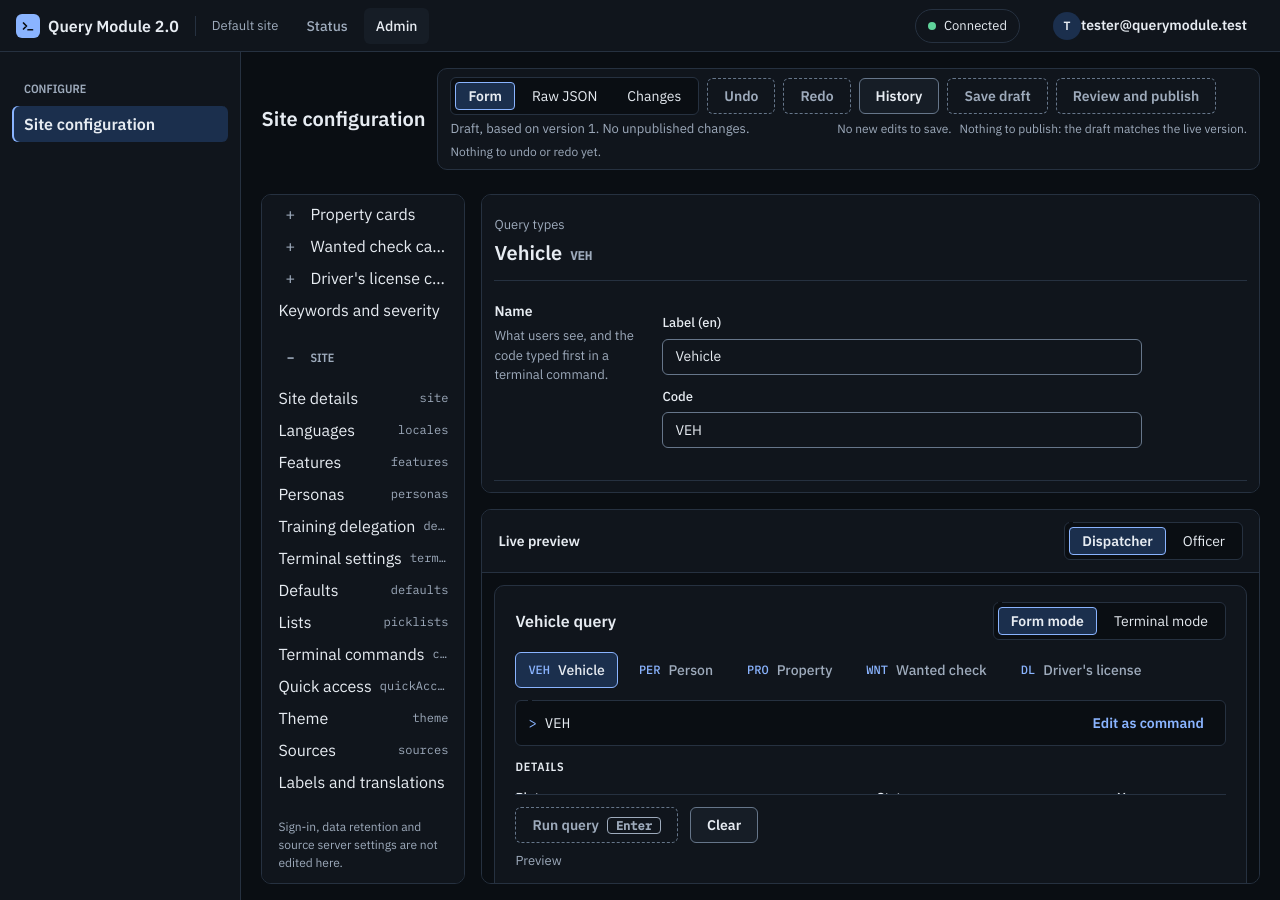
Test: B1: a setting's name is its words; the config path is a hidden description › legends keep names unique: the same words in different items are in different groups
This screenshot has width=1280, height=900.
(page scrolled)
Expected: the tab "Form" is shown, [456,82,515,110]
Click the list item "Sources sources": (307, 750) [270,734,456,766]
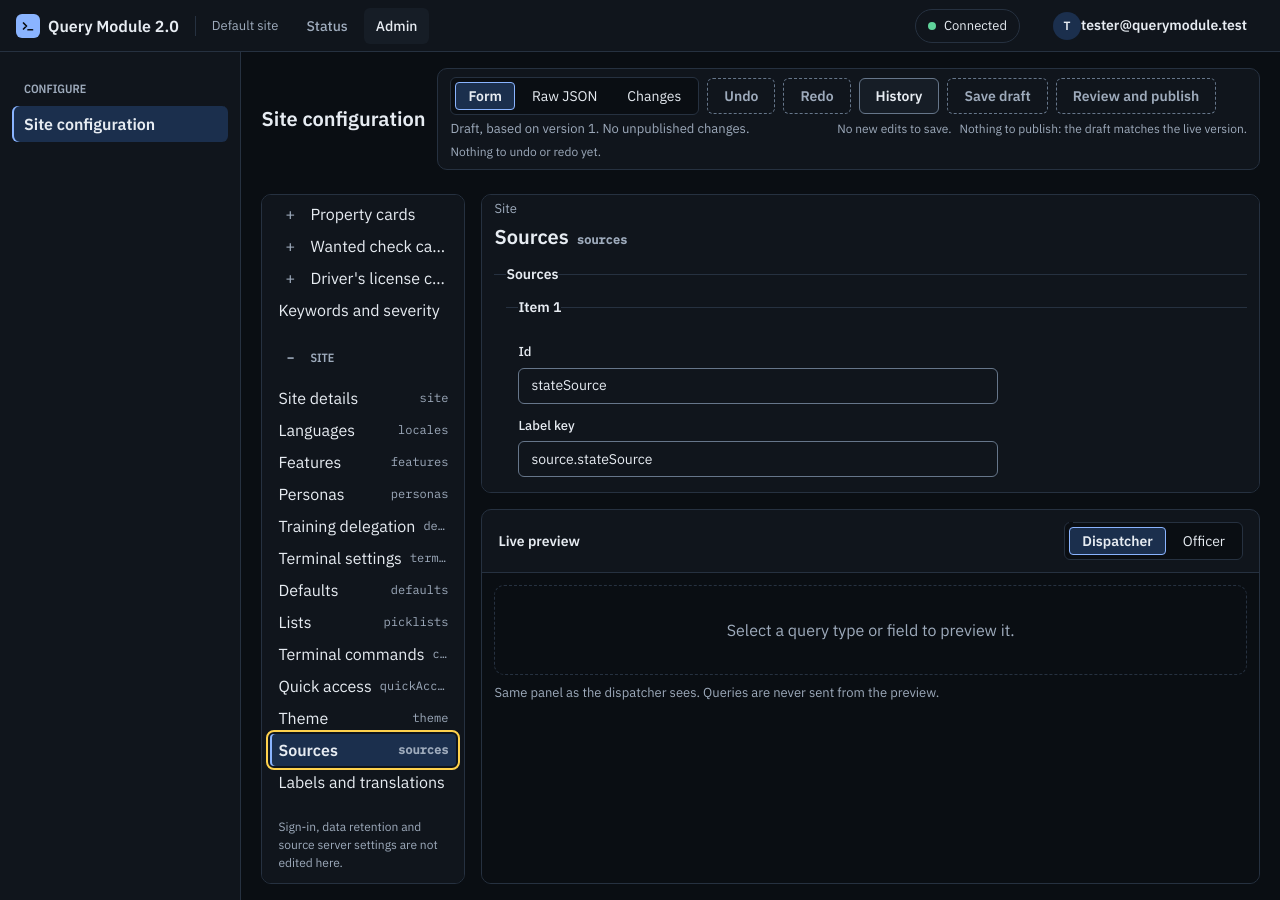
Now the text "Item 1" is shown, box [518,297,562,318]
